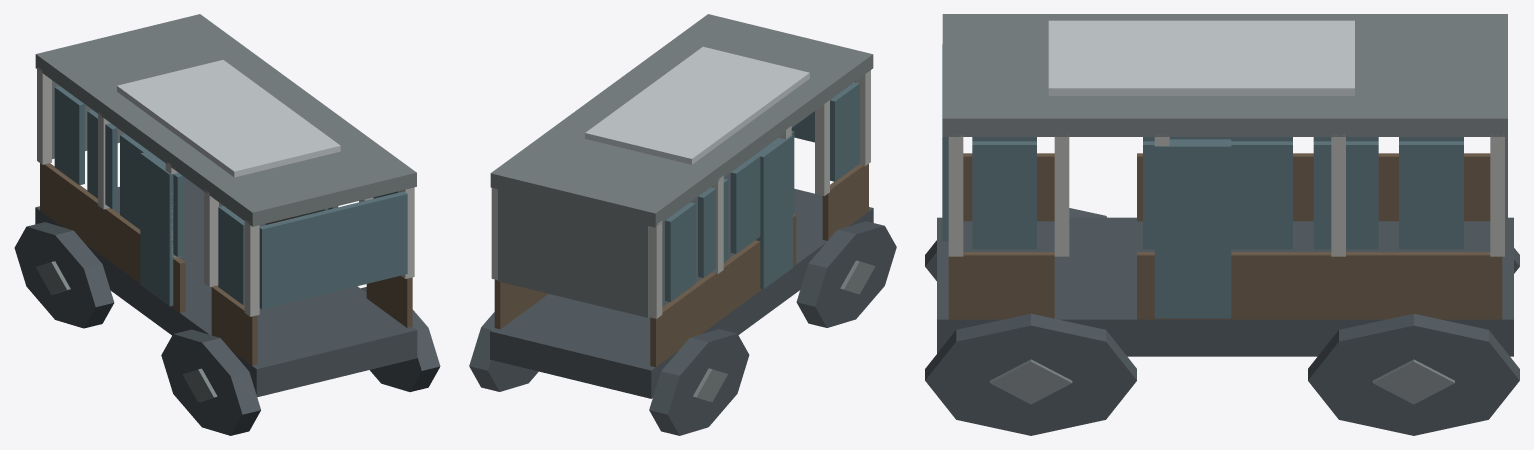
The model's file is old_coach.glb.
The picture shows the model from 3 angles, left to right: view 1: azimuth 30°, elevation 25°; view 2: azimuth 150°, elevation 25°; view 3: azimuth 270°, elevation 25°; orthographic projection. The views are drawn at different scales.
Visible parts, largest first — view 1: old_coach; view 2: old_coach; view 3: old_coach.
Boxes of the visible parts, x1=… form: old_coach: x1=14, y1=14, x2=440, y2=435; old_coach: x1=469, y1=14, x2=896, y2=435; old_coach: x1=925, y1=14, x2=1519, y2=435.
Bounding box in the file's own units: 2.5 × 2.8 × 4.8.
